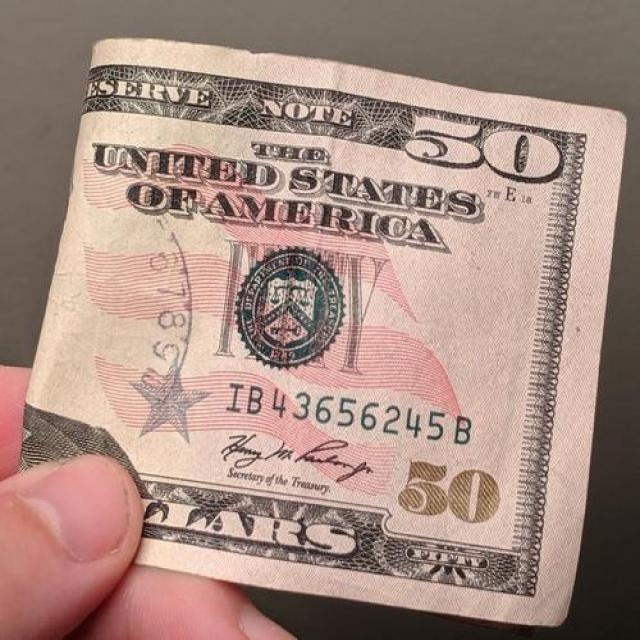50-Front: (28, 34, 630, 637)
